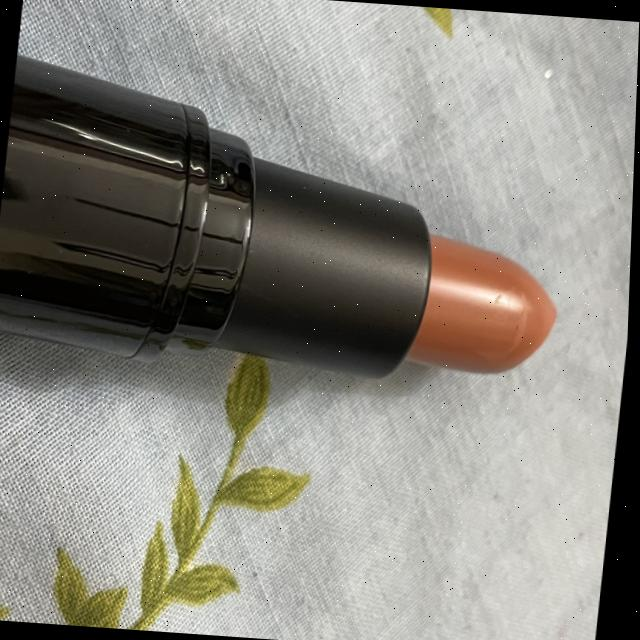lip stick: (0, 33, 602, 415)
